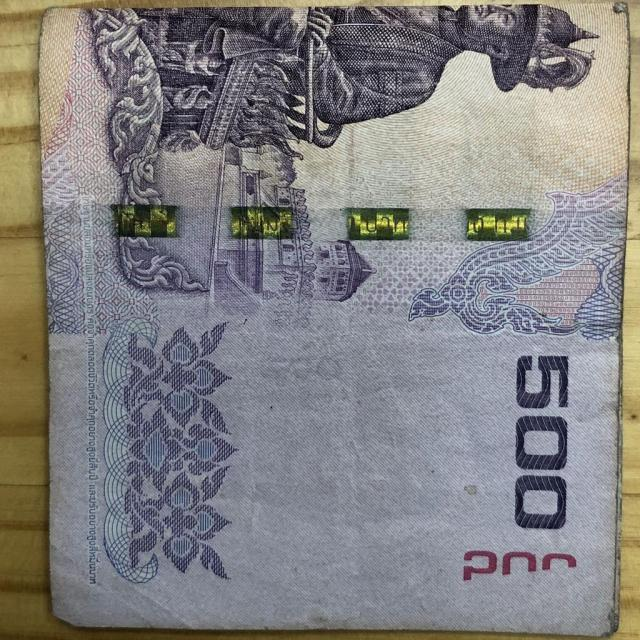THAI500: (35, 0, 635, 639)
